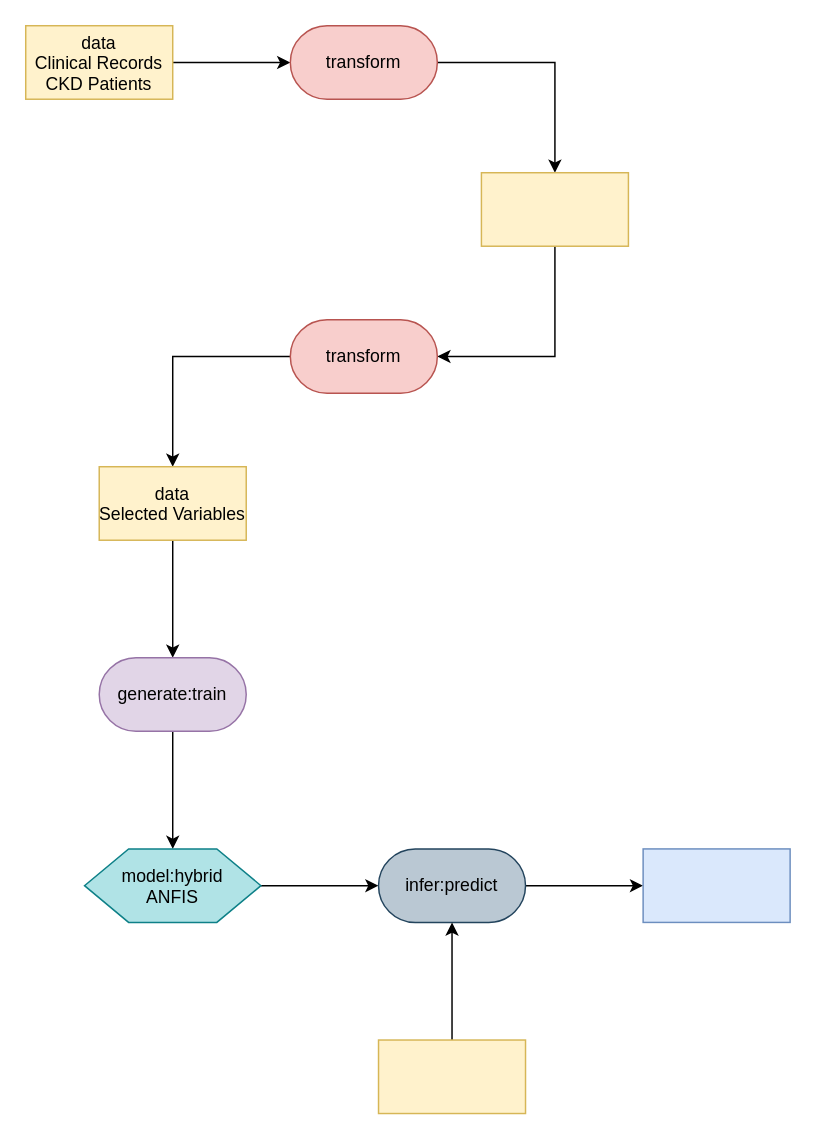
The diagram is 816 pixels wide and 1139 high, and some of its shapes have lost their labels. The centre of each missing label's shape, as x and y in pixels:
data New GFR and Patient Data: the point at 451,1076
data Preprocessed Data: the point at 554,208
symbol Predicted GFR Values: the point at 716,884
